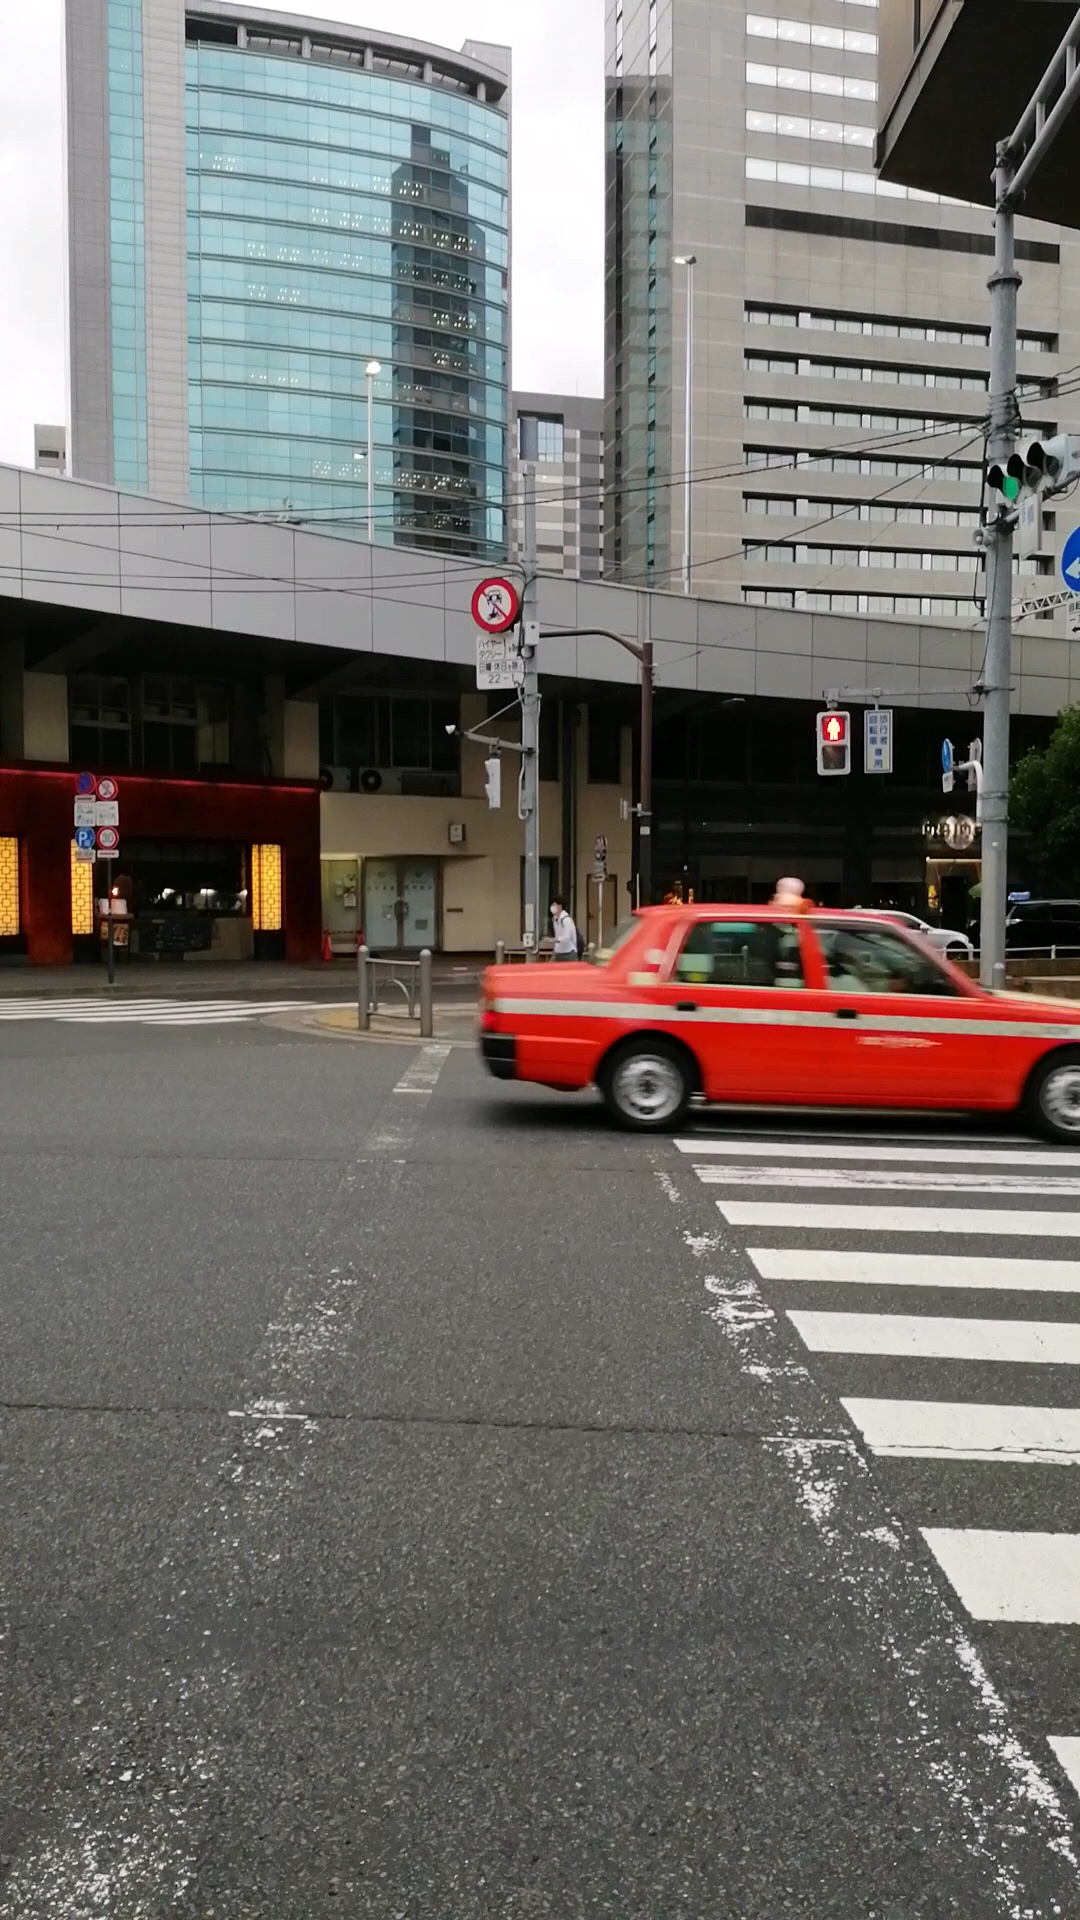red: (814, 709, 851, 775)
